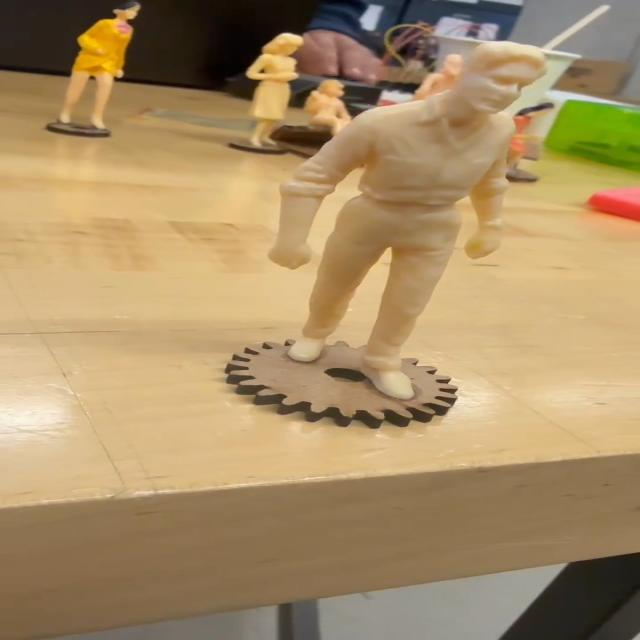Unauthorized: (243, 23, 553, 399)
